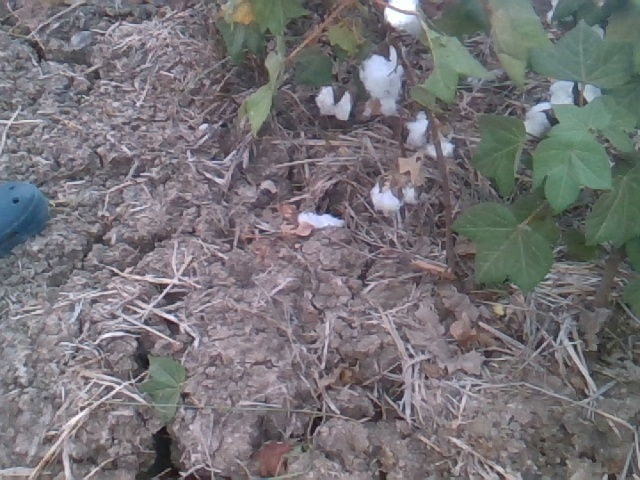cotton: (358, 54, 400, 113), (381, 1, 426, 33), (371, 182, 416, 209), (317, 88, 349, 117), (524, 105, 551, 134), (549, 81, 575, 107), (407, 113, 428, 143), (425, 140, 453, 157), (584, 85, 603, 101)
